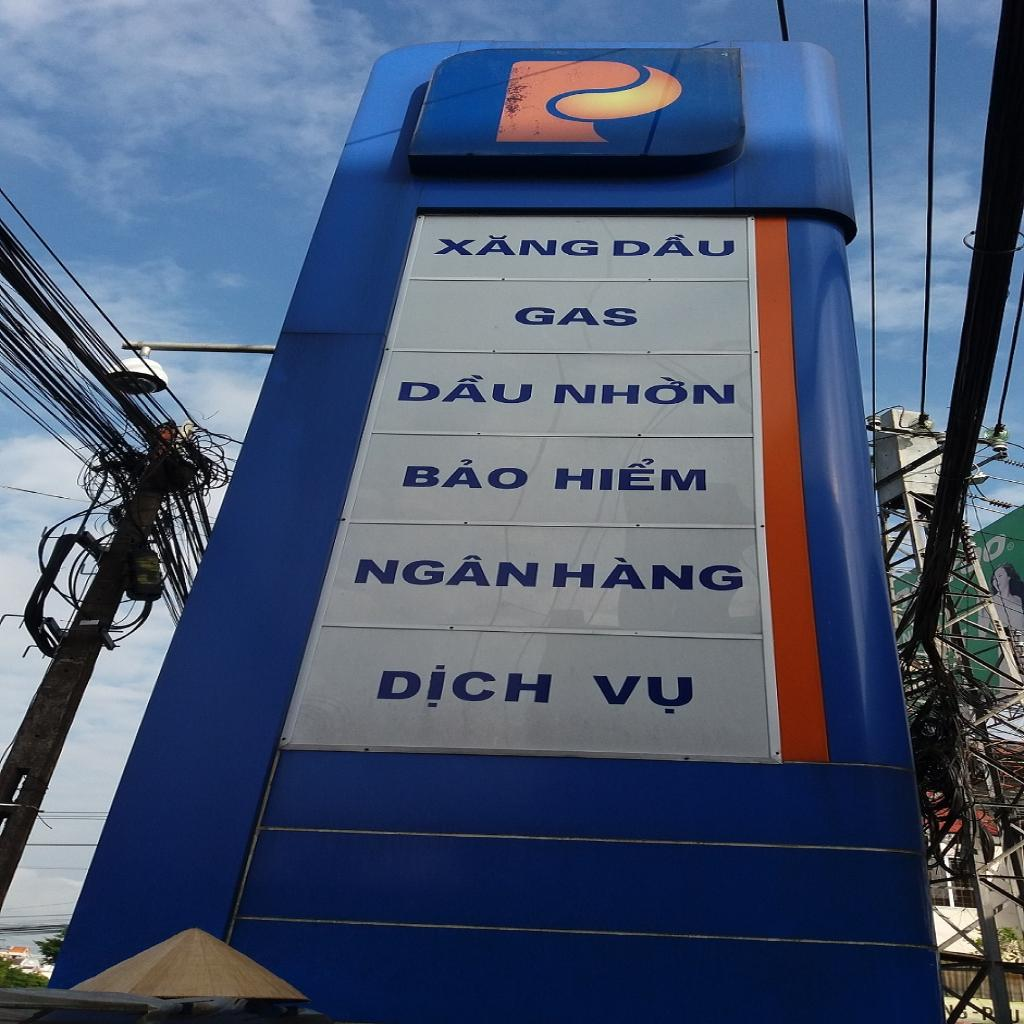text: (363, 658, 565, 712), (546, 551, 751, 598), (349, 546, 542, 588), (546, 449, 720, 494), (505, 295, 647, 344), (550, 373, 742, 408), (428, 230, 606, 266), (392, 370, 542, 408), (394, 454, 536, 494), (605, 230, 742, 262)
